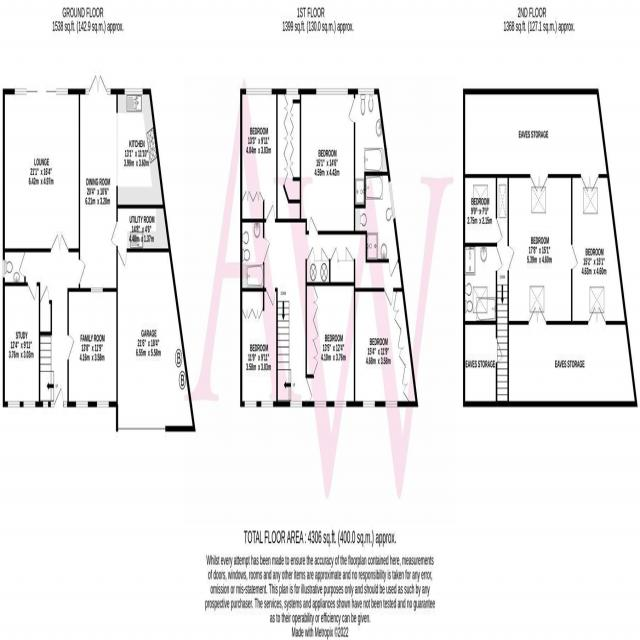DOOR: (110, 220, 118, 248), (78, 258, 86, 285), (117, 248, 127, 269), (305, 377, 313, 403), (384, 287, 394, 307), (308, 215, 318, 235), (388, 258, 398, 278), (27, 282, 37, 301), (496, 217, 503, 244), (263, 237, 270, 264), (348, 97, 355, 124), (67, 334, 74, 361), (266, 287, 275, 307), (266, 203, 275, 223)
DOUBLE DOOR: (88, 72, 107, 95)
ROOM: (79, 73, 166, 292), (300, 88, 390, 235), (354, 287, 419, 407), (305, 282, 355, 407), (67, 287, 118, 407), (240, 88, 278, 223), (3, 282, 40, 408), (240, 288, 278, 407), (463, 174, 503, 247)
WINDOW: (388, 179, 396, 221), (316, 88, 348, 95), (246, 88, 272, 96), (124, 88, 143, 95), (358, 88, 374, 95), (385, 400, 398, 408), (314, 400, 327, 408), (334, 400, 347, 408), (261, 400, 274, 408), (244, 400, 257, 408), (96, 400, 109, 408), (75, 400, 88, 408), (23, 400, 36, 408), (290, 400, 302, 408), (286, 88, 299, 95), (363, 401, 375, 408), (8, 401, 20, 408), (91, 287, 103, 293)
